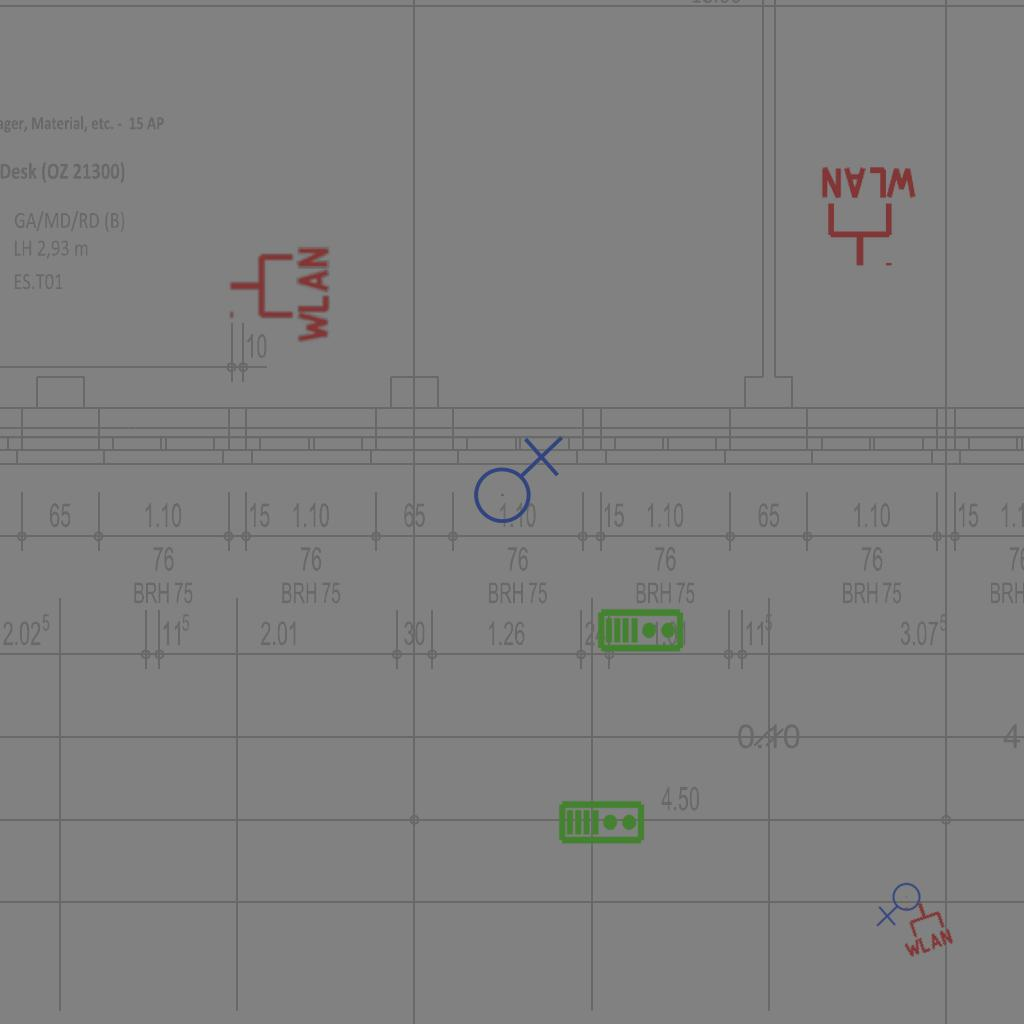Elektroanschluss_allgemein_230V_Geraeteanschlussdose_230V: (465, 431, 564, 525), (876, 882, 925, 929)
Gegensprechanlage_mit_Video: (558, 798, 646, 845), (597, 606, 685, 653)
WLAN: (226, 243, 331, 347), (817, 165, 921, 270), (889, 893, 957, 961)
